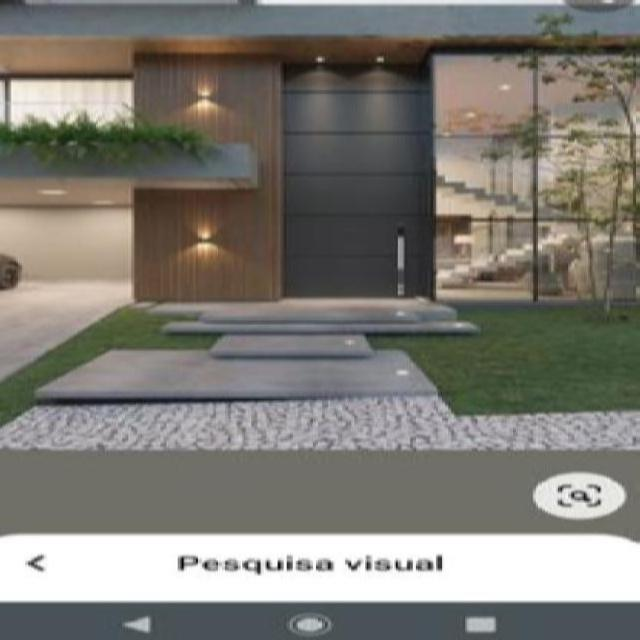stair: (28, 284, 450, 416)
